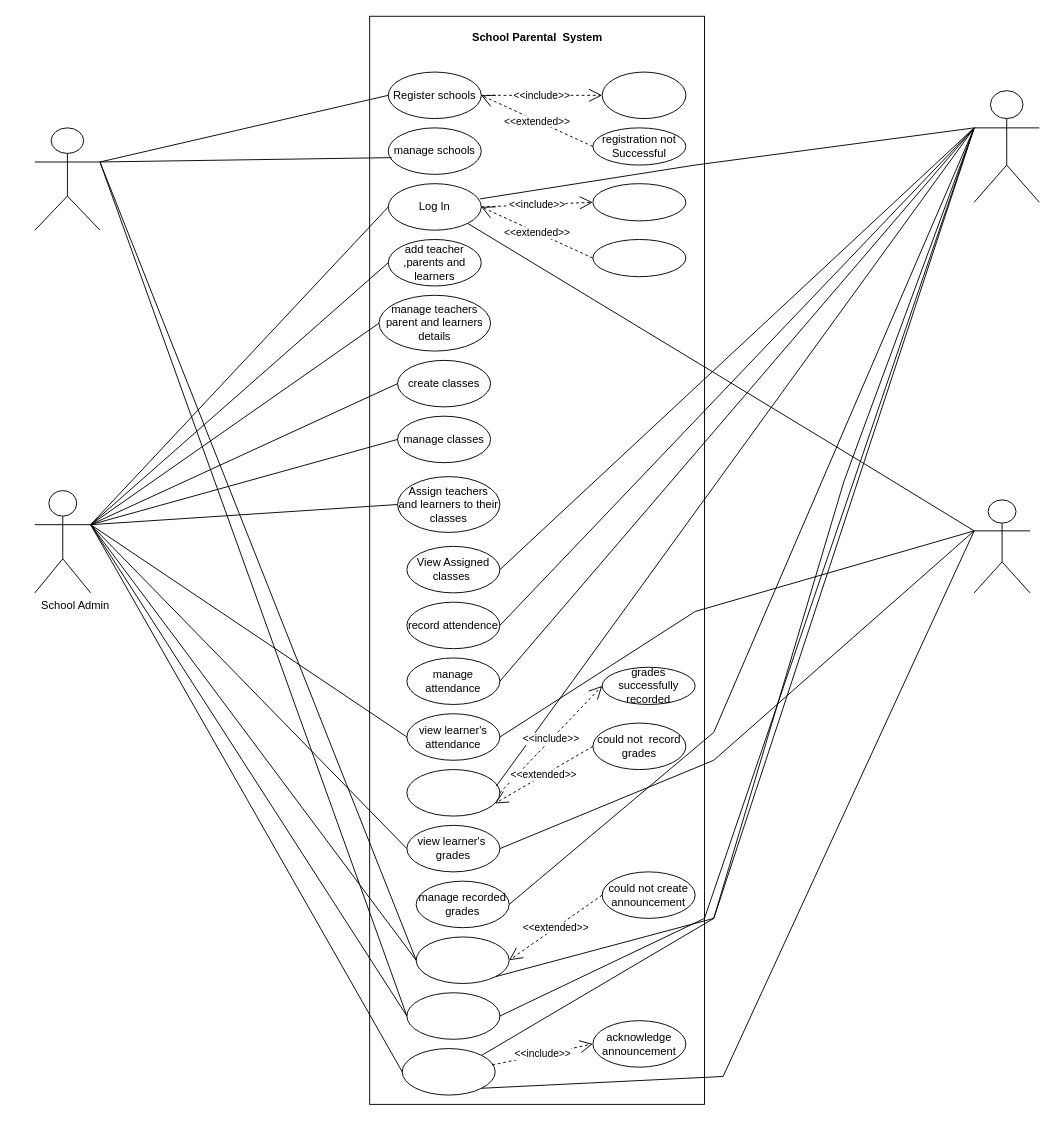
Image size: 1056x1121. Some labels were removed from this diagram. Here are the shapes that lost their labels. From the top down, the centre of each, then its label:
At point (643, 95): "registration Successful".
At point (1006, 146): "Teacher".
At point (67, 178): "Super Admin".
At point (639, 202): "Log in successful".
At point (639, 258): "Log In Error".
At point (1001, 546): "Parent".
At point (453, 792): "record grades".
At point (462, 959): "create announcement".
At point (453, 1015): "manage announcement".
At point (448, 1071): "view announcement".
